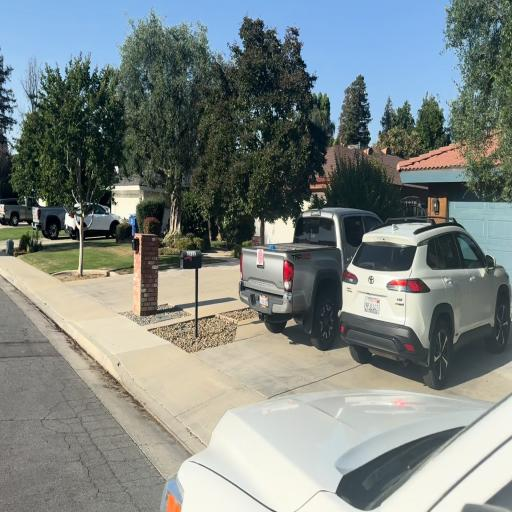bullseye: (257, 249, 264, 264)
